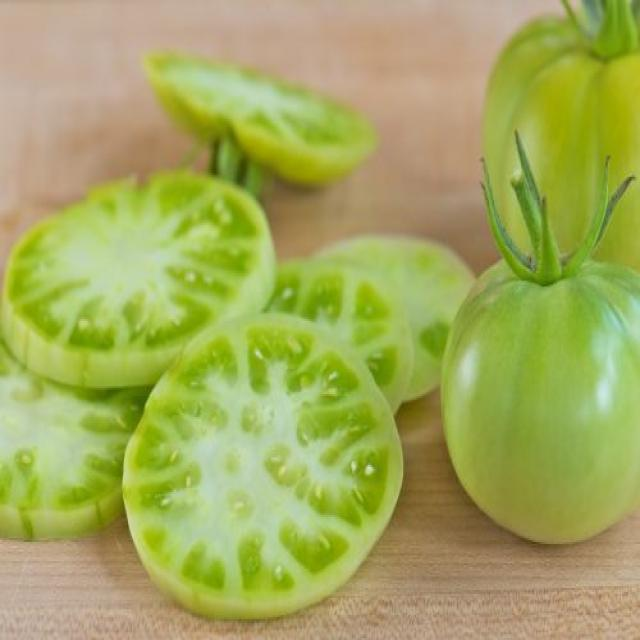yesil: (442, 234, 637, 559)
